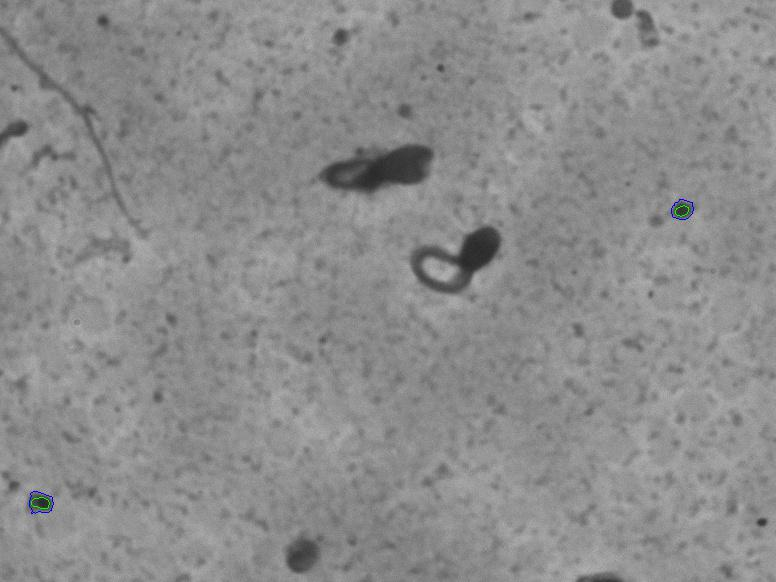Abnormal: (392, 212, 518, 326), (310, 123, 458, 214)
